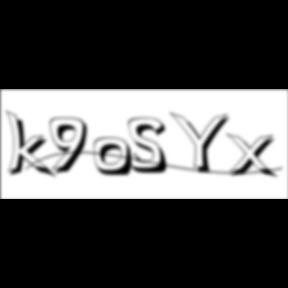9: (50, 117, 94, 177)
S: (128, 117, 174, 176)
Y: (170, 110, 236, 176)
k: (5, 108, 58, 181)
o: (94, 137, 136, 179)
x: (226, 132, 282, 181)
